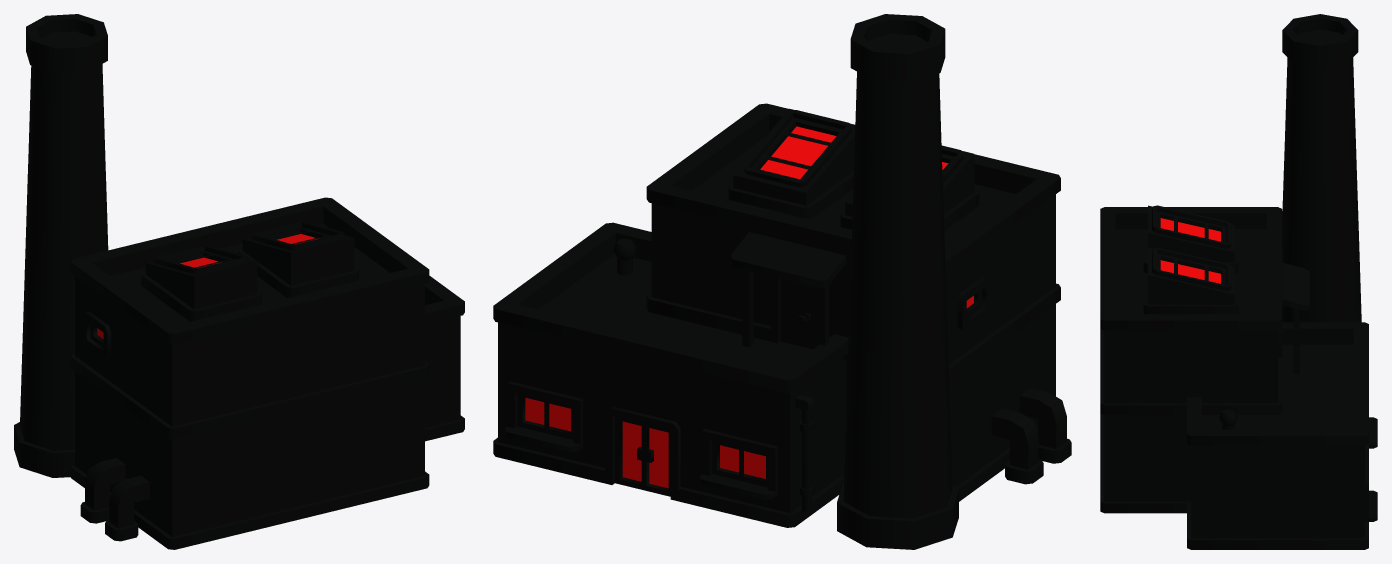
Rendered from building-f.glb.
3 views of the same model, side by side, from view 1: azimuth 30°, elevation 25°; view 2: azimuth 150°, elevation 25°; view 3: azimuth 270°, elevation 25° (orthographic). The views are drawn at different scales.
Visible parts, largest first — view 1: building-f; view 2: building-f; view 3: building-f.
Boxes of the visible parts, <box> form: building-f: <box>14,14,464,549</box>; building-f: <box>493,14,1071,549</box>; building-f: <box>1100,14,1377,549</box>.
Size of the model in its own units: 1.79 by 1.92 by 1.28.
Materials: 1 (1 with a texture image).
